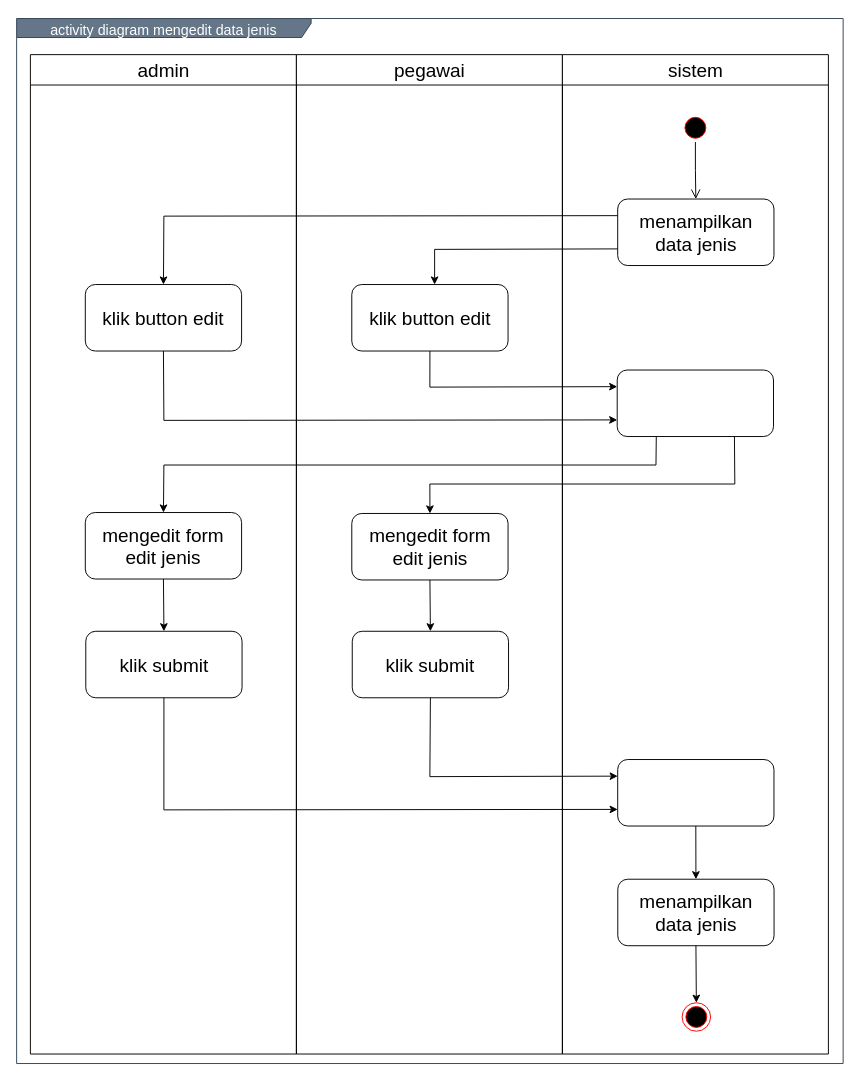
Image size: 860x1080. Some labels were removed from this diagram. The centre of each missing label's shape, as x and y in pixels:
"menampilkan form edit jenis" belongs at [694,403].
"menyimpan ke database" belongs at [695,792].
